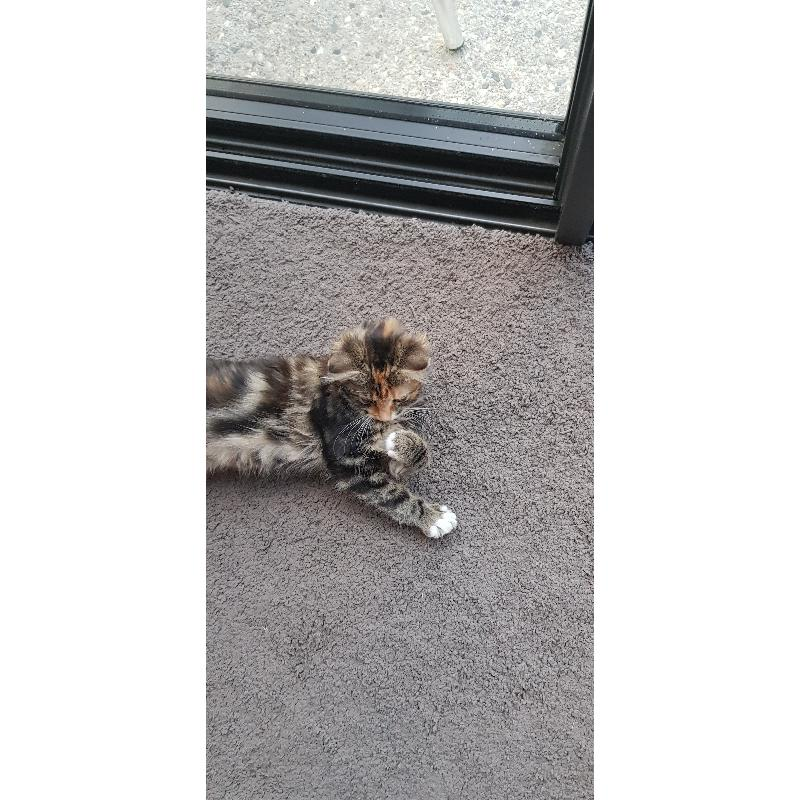red: (207, 318, 460, 540)
